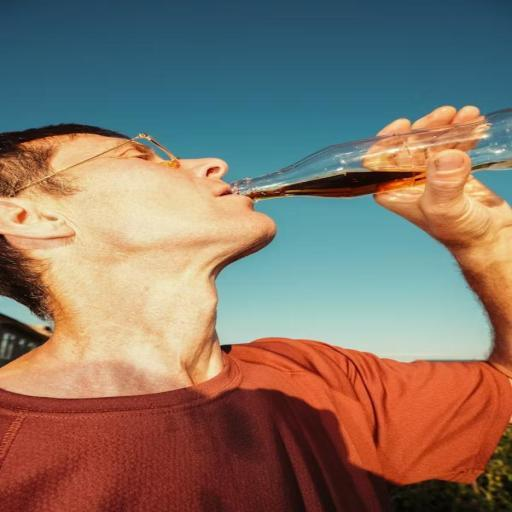bottle: (218, 98, 512, 210)
